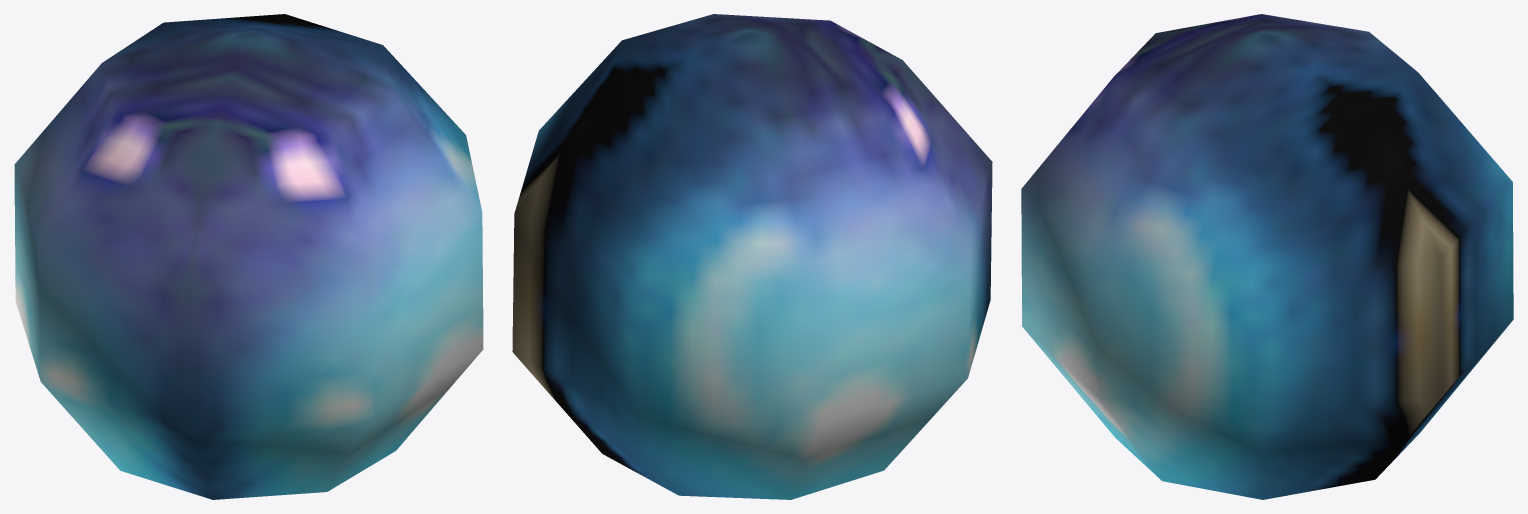
The model's file is GW_baoshi_001.FBX.
3 views of the same model, side by side, from view 1: azimuth 30°, elevation 25°; view 2: azimuth 150°, elevation 25°; view 3: azimuth 270°, elevation 25° (orthographic).
Visible parts, largest first — view 1: GW_baoshi_001; view 2: GW_baoshi_001; view 3: GW_baoshi_001.
Boxes of the visible parts, x1,y1,x2,y2 form: GW_baoshi_001: (14, 14, 483, 499); GW_baoshi_001: (512, 14, 992, 499); GW_baoshi_001: (1021, 14, 1513, 499).
Bounding box in the file's own units: 92.06 × 91.15 × 91.86.
